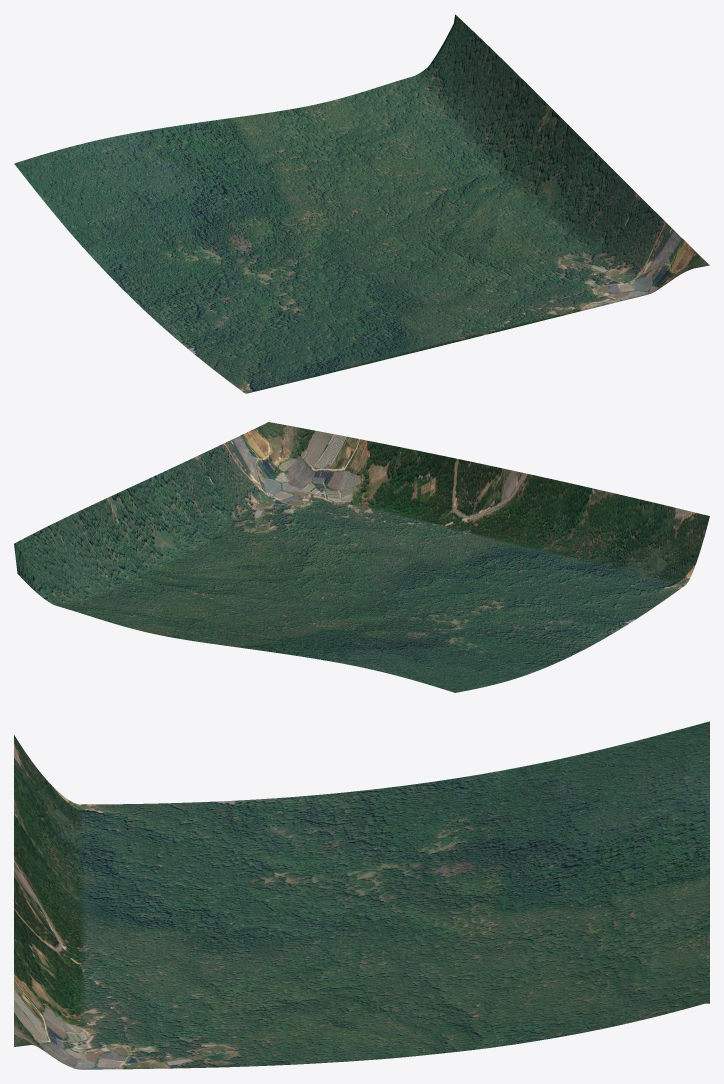
The model's file is terrain_real_T_E00_N05.glb.
3 renders of one model, top to bottom at view 1: azimuth 30°, elevation 25°; view 2: azimuth 150°, elevation 25°; view 3: azimuth 270°, elevation 25°, orthographic. The views are drawn at different scales.
Visible parts, largest first — view 1: Terrain_Real_DEM_T_E00_N05; view 2: Terrain_Real_DEM_T_E00_N05; view 3: Terrain_Real_DEM_T_E00_N05.
Boxes of the visible parts, x1=… form: Terrain_Real_DEM_T_E00_N05: x1=14, y1=14, x2=709, y2=393; Terrain_Real_DEM_T_E00_N05: x1=14, y1=422, x2=709, y2=692; Terrain_Real_DEM_T_E00_N05: x1=14, y1=721, x2=709, y2=1069.
Bounding box in the file's own units: 2000 × 444 × 2000.
1 material, 1 textured.
